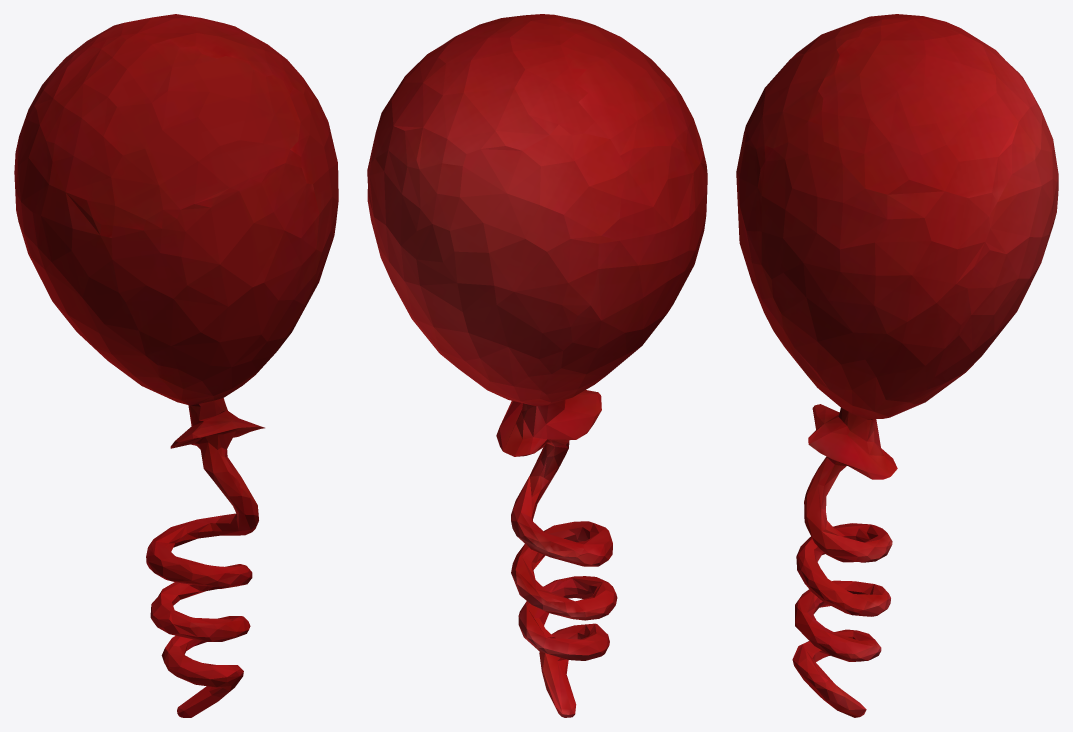
Rendered from balloon.glb.
The picture shows the model from 3 angles, left to right: view 1: azimuth 30°, elevation 25°; view 2: azimuth 150°, elevation 25°; view 3: azimuth 270°, elevation 25°; orthographic projection. The views are drawn at different scales.
Visible parts, largest first — view 1: geometry_0; view 2: geometry_0; view 3: geometry_0.
Boxes of the visible parts, x1,y1,x2,y2 form: geometry_0: [14, 14, 338, 717]; geometry_0: [367, 14, 707, 717]; geometry_0: [736, 14, 1058, 717].
Size of the model in its own units: 0.2476 by 0.551 by 0.2343.
1 material, 1 textured.
